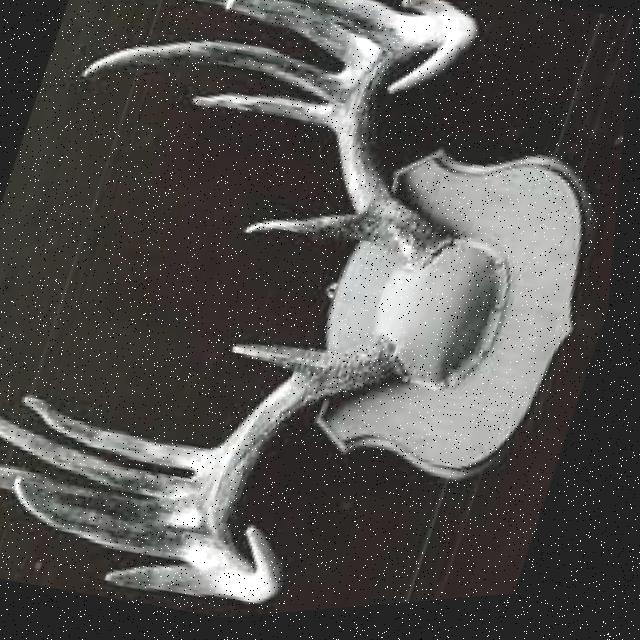L-F: (211, 347, 418, 610)
L-G1: (237, 347, 356, 386)
L-G2: (28, 392, 231, 479)
R-F: (341, 22, 482, 274)
R-G1: (247, 217, 382, 248)
R-G2: (192, 93, 348, 140)
R-G3: (81, 42, 355, 108)
